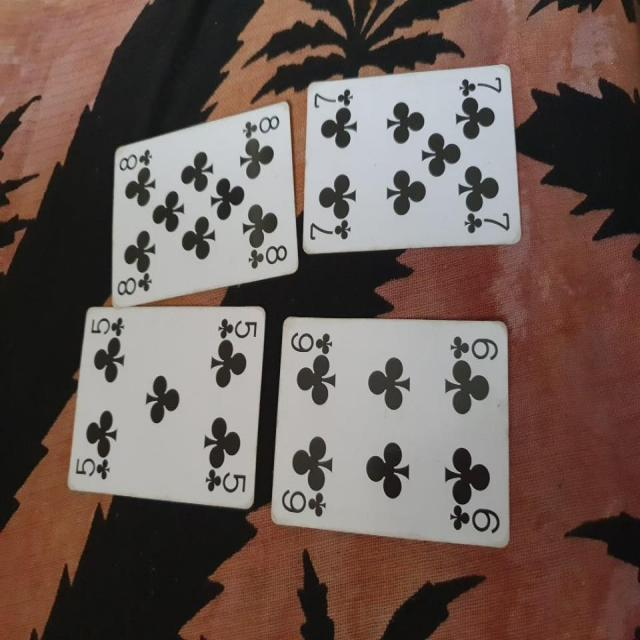5 Trefoils: (65, 303, 268, 512)
6 Trefoils: (270, 317, 510, 551)
7 Trefoils: (298, 64, 522, 256)
8 Trefoils: (111, 100, 298, 308)
